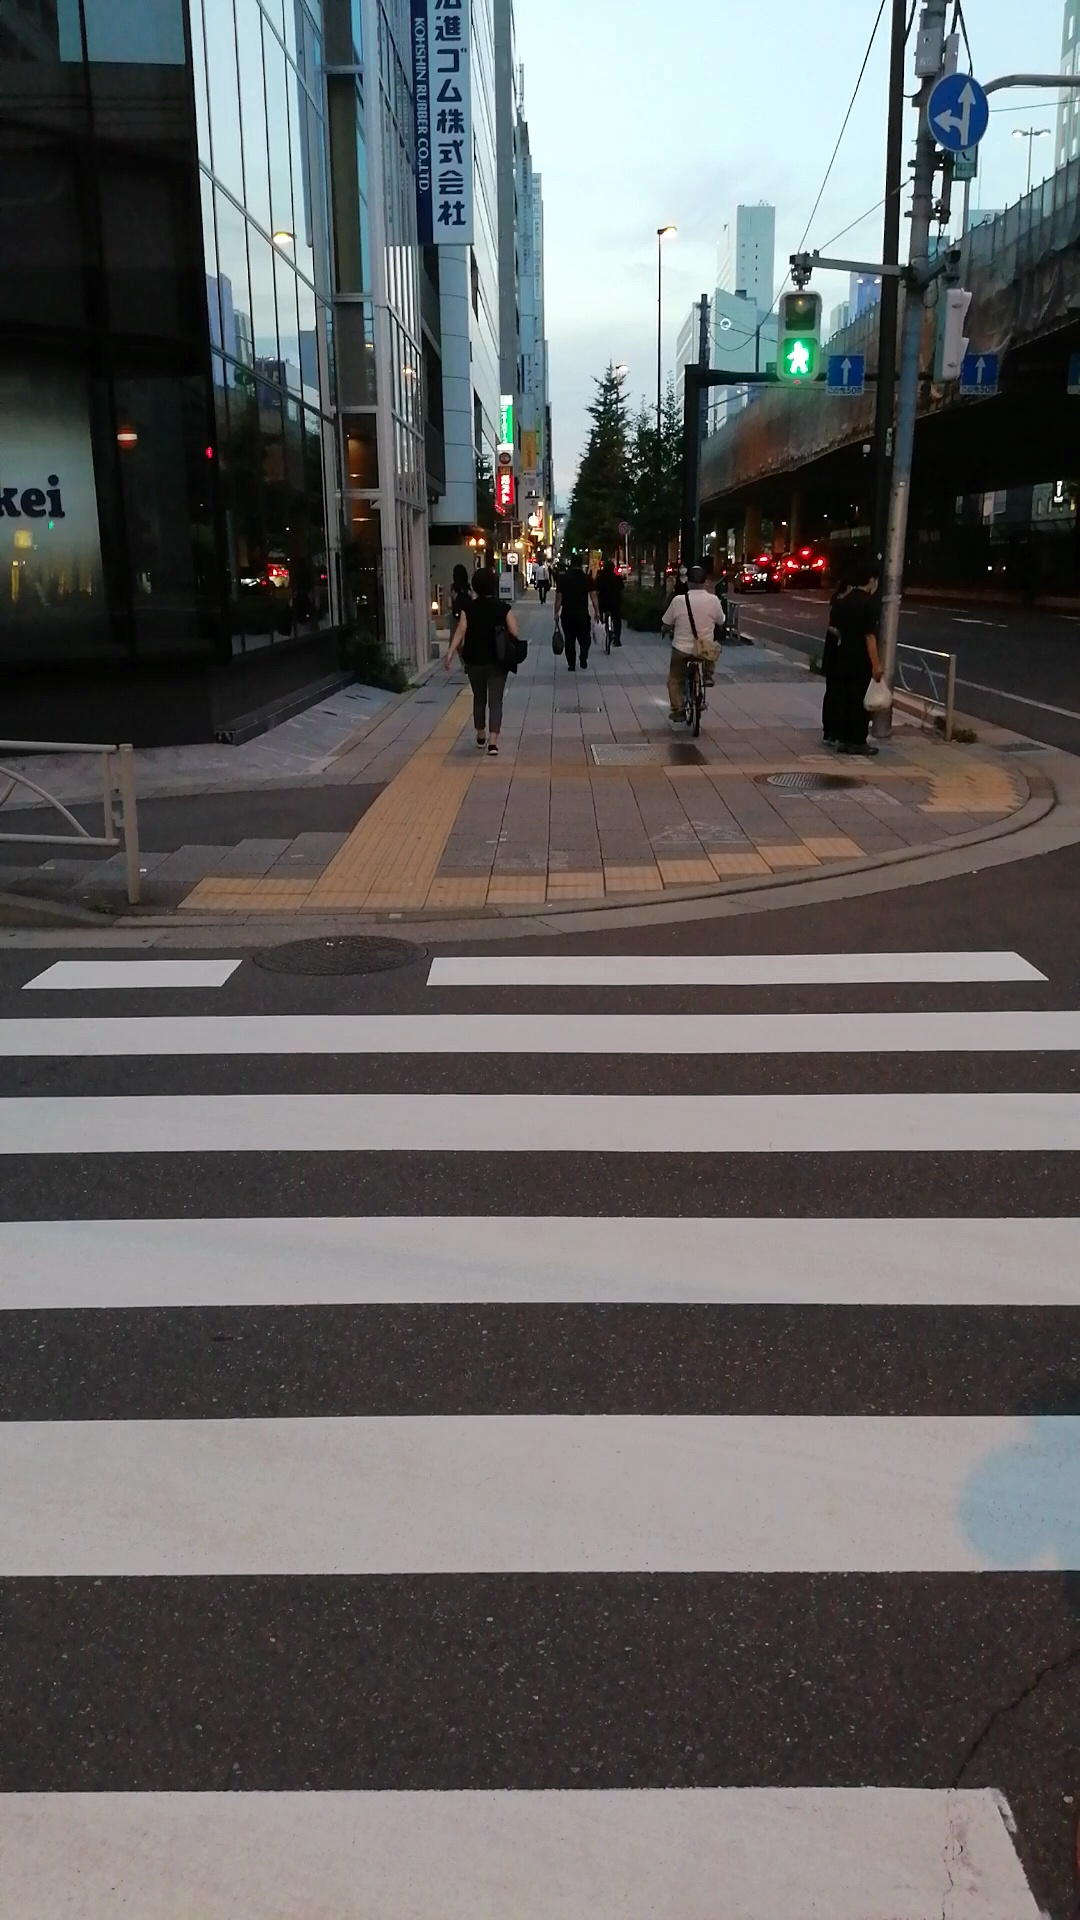green: (777, 291, 822, 382)
